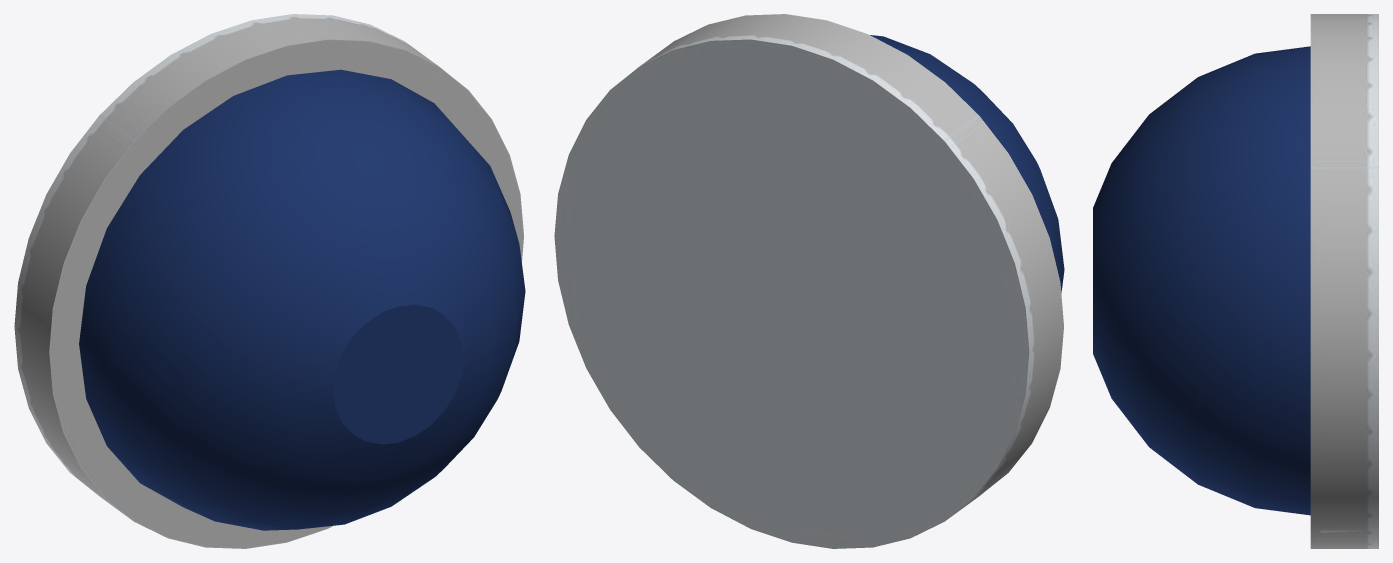
The model's file is mid360.glb.
3 views of the same model, side by side, from view 1: azimuth 30°, elevation 25°; view 2: azimuth 150°, elevation 25°; view 3: azimuth 270°, elevation 25° (orthographic). The views are drawn at different scales.
Parts seen in each view (by area): view 1: geo1; view 2: geo1; view 3: geo1.
Part boxes in pixels (x1=…): geo1: x1=14, y1=14, x2=525, y2=548; geo1: x1=554, y1=14, x2=1064, y2=548; geo1: x1=1093, y1=14, x2=1378, y2=548.
Size of the model in its own units: 0.051 by 0.051 by 0.0271.
2 materials, 1 textured.
